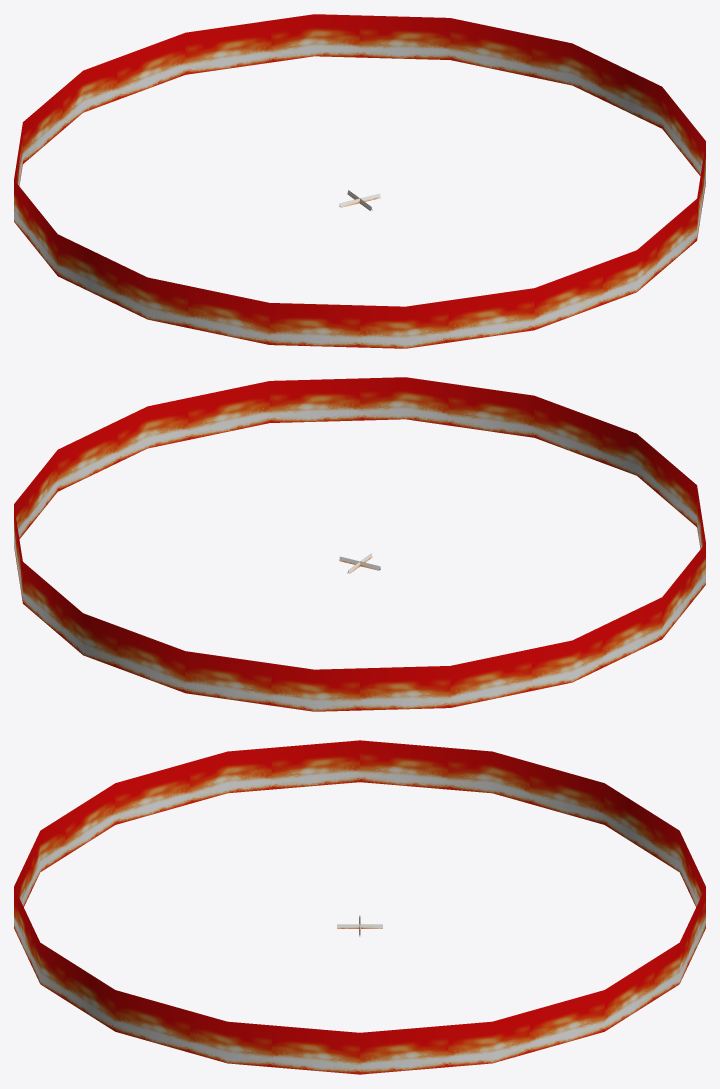
File: godclient_cylinder_30m.fbx
3 renders of one model, top to bottom at view 1: azimuth 30°, elevation 25°; view 2: azimuth 150°, elevation 25°; view 3: azimuth 270°, elevation 25°, orthographic.
Parts seen in each view (by area): view 1: mesh_node; view 2: mesh_node; view 3: mesh_node.
Part boxes in pixels (<box>): mesh_node: <box>14,14,705,348</box>; mesh_node: <box>14,377,705,711</box>; mesh_node: <box>14,740,705,1074</box>.
Bounding box in the file's own units: 30 × 2 × 30.
1 material, 1 textured.
